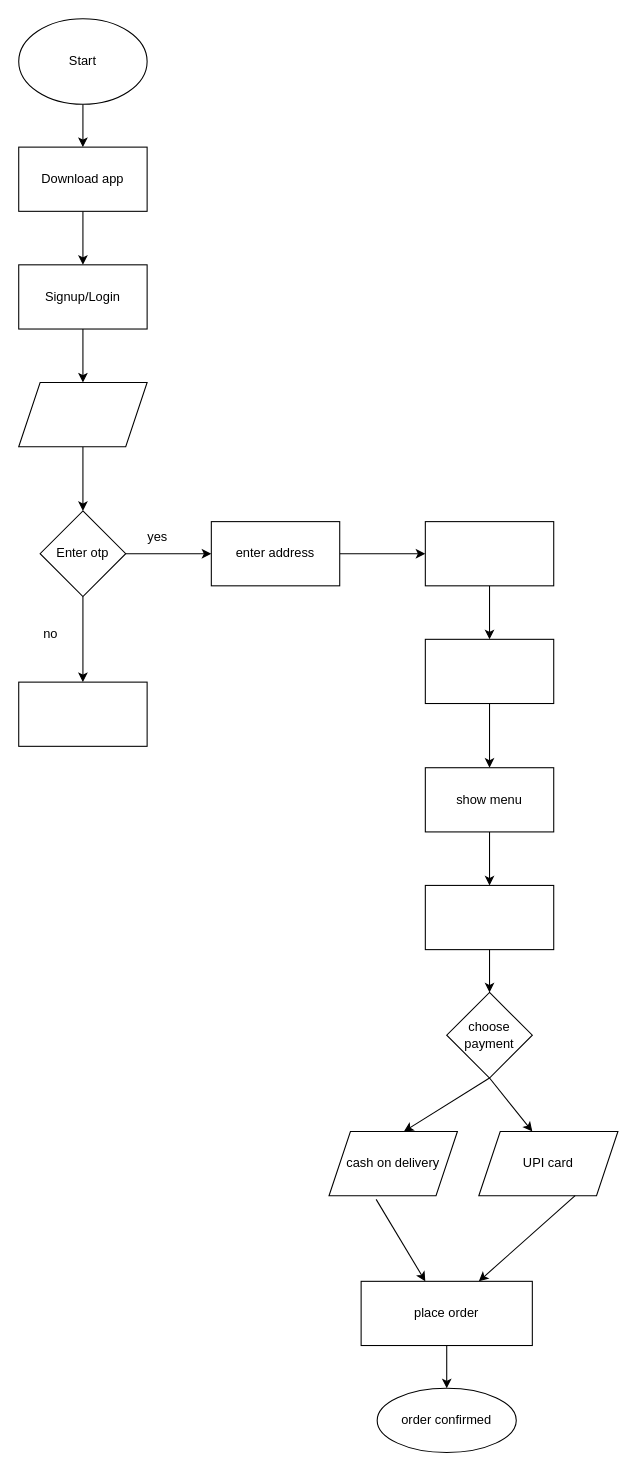
The diagram is 637 pixels wide and 1471 high, and some of its shapes have lost their labels. Each missing label, with the box of its shape:
add to cart: (424, 884, 554, 950)
Back to login process: (18, 681, 147, 746)
Enter phone no request otp: (18, 381, 147, 447)
select restaurants: (424, 638, 554, 704)
show nearby restaurants: (424, 521, 554, 586)
